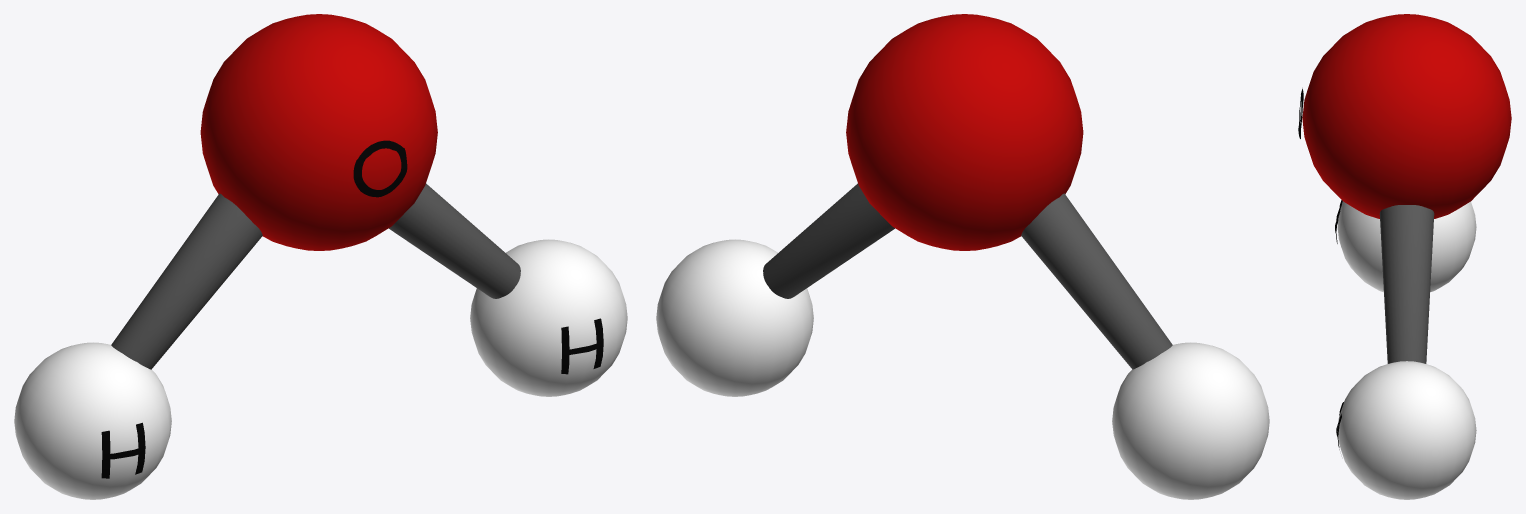
3 views of the same model, side by side, from view 1: azimuth 30°, elevation 25°; view 2: azimuth 150°, elevation 25°; view 3: azimuth 270°, elevation 25° (orthographic). The views are drawn at different scales.
Parts seen in each view (by area): view 1: Sphere.002, Sphere, Sphere.003, Cylinder, Cylinder.001, Text.002, Text, Text.001; view 2: Sphere.002, Sphere, Sphere.003, Cylinder, Cylinder.001; view 3: Sphere.002, Sphere.003, Cylinder.001, Sphere.
Part boxes in pixels (box(x1,y1,x2,y2)): Sphere.002: box(200, 14, 437, 250); Sphere: box(14, 342, 171, 499); Sphere.003: box(470, 239, 627, 396); Cylinder: box(111, 193, 262, 369); Cylinder.001: box(389, 183, 520, 298); Text.002: box(353, 140, 407, 197); Text: box(101, 422, 145, 478); Text.001: box(561, 318, 603, 374); Sphere.002: box(846, 14, 1083, 250); Sphere: box(1112, 342, 1269, 499); Sphere.003: box(656, 239, 813, 396); Cylinder: box(1021, 193, 1172, 369); Cylinder.001: box(763, 183, 894, 298); Sphere.002: box(1302, 14, 1511, 218); Sphere.003: box(1338, 361, 1476, 499); Cylinder.001: box(1379, 205, 1434, 363); Sphere: box(1337, 201, 1476, 292).
Size of the model in its own units: 323 by 219 by 114.
